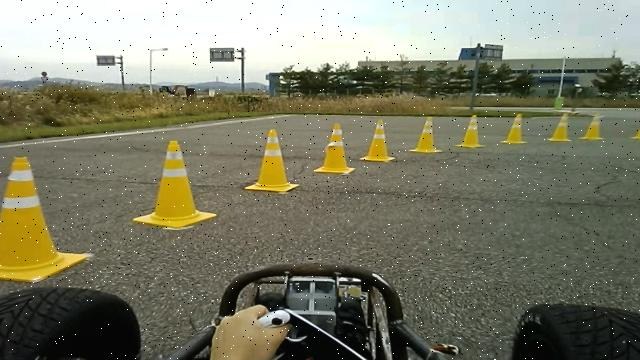yellow cone: (0, 155, 89, 283), (132, 139, 218, 228), (244, 128, 300, 192), (314, 123, 356, 174), (360, 118, 396, 162), (409, 115, 443, 153), (455, 114, 486, 148), (501, 113, 528, 144), (578, 114, 606, 140), (548, 112, 572, 142), (630, 111, 640, 140)
